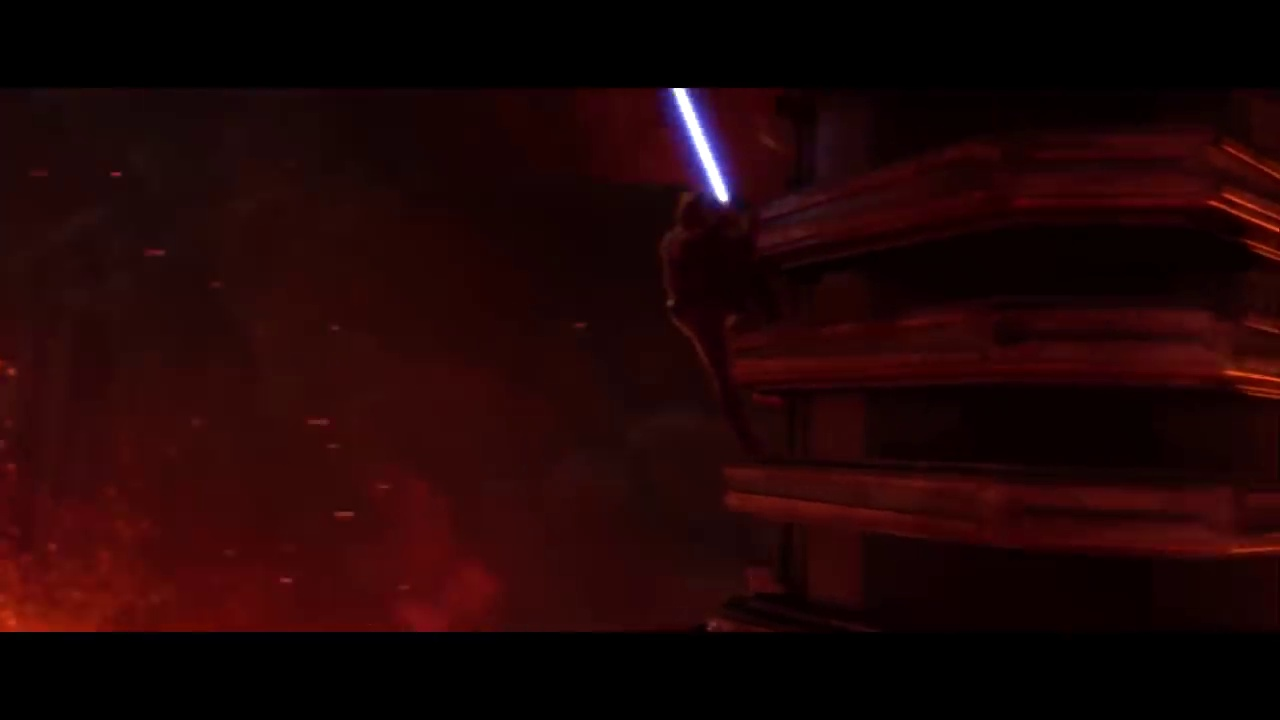lightsaber: (647, 85, 753, 214)
